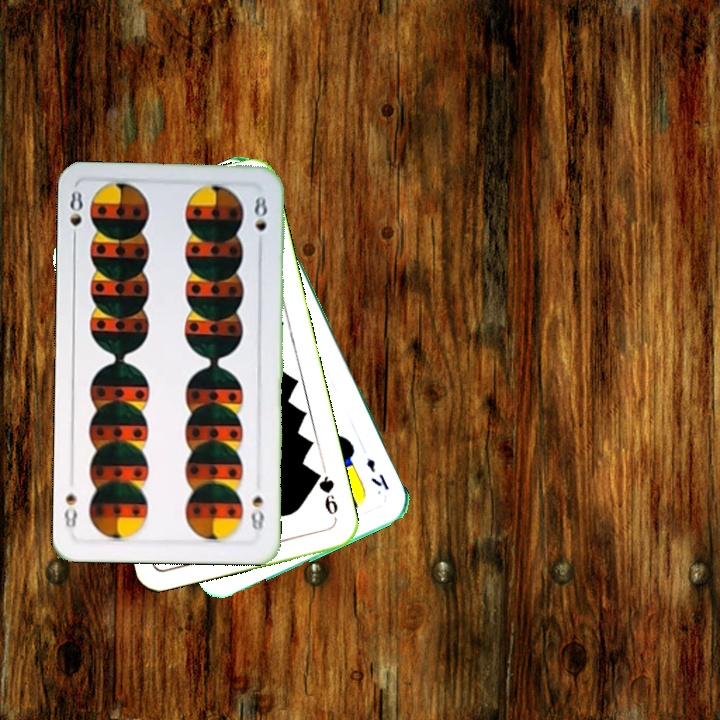EK: (362, 454, 392, 493)
G9: (310, 467, 341, 518)
S8: (65, 186, 85, 245), (246, 491, 267, 533)
